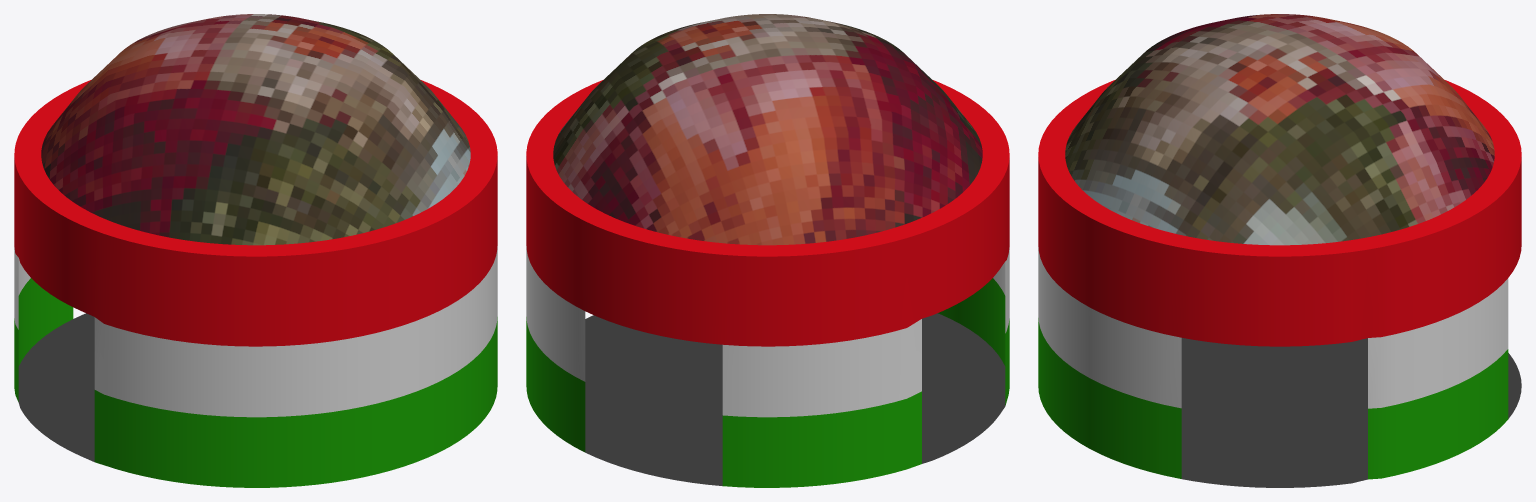
Rendered from Ballroom.fbx.
3 renders of one model, left to right at view 1: azimuth 30°, elevation 25°; view 2: azimuth 150°, elevation 25°; view 3: azimuth 270°, elevation 25°, orthographic.
Visible parts, largest first — view 1: Ballroom; view 2: Ballroom; view 3: Ballroom.
Part boxes in pixels (x1,y1,x2,y2): Ballroom: (14, 14, 497, 487); Ballroom: (526, 14, 1009, 487); Ballroom: (1038, 14, 1521, 487).
Size of the model in its own units: 1349 by 1059 by 1350.
